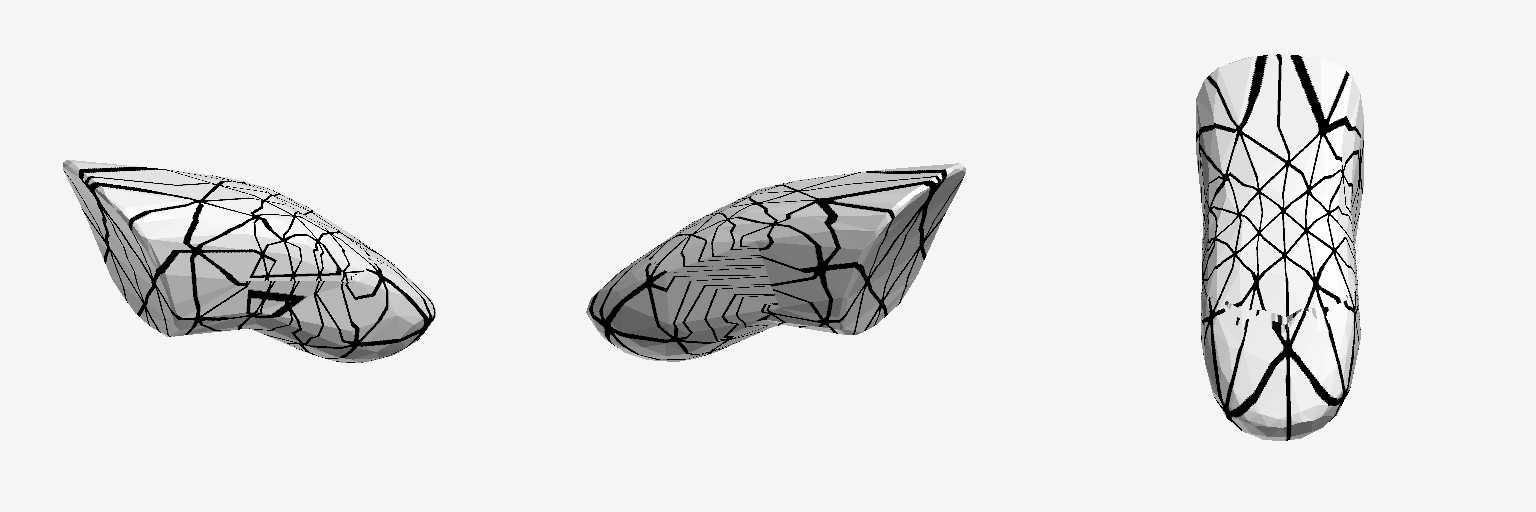
The picture shows the model from 3 angles: view 1: azimuth 30°, elevation 25°; view 2: azimuth 150°, elevation 25°; view 3: azimuth 270°, elevation 25°; orthographic projection.
Visible parts, largest first — view 1: Default.1; view 2: Default.1; view 3: Default.1.
Boxes of the visible parts, x1=… form: Default.1: x1=63, y1=160, x2=435, y2=362; Default.1: x1=586, y1=163, x2=965, y2=361; Default.1: x1=1196, y1=54, x2=1363, y2=440.
Bounding box in the file's own units: 29.97 × 20.17 × 12.81.
1 materials, 1 textured.